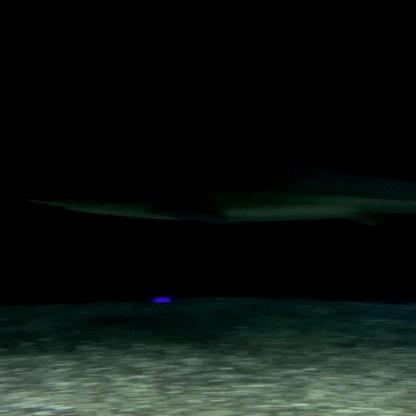shark: (18, 118, 416, 226)
